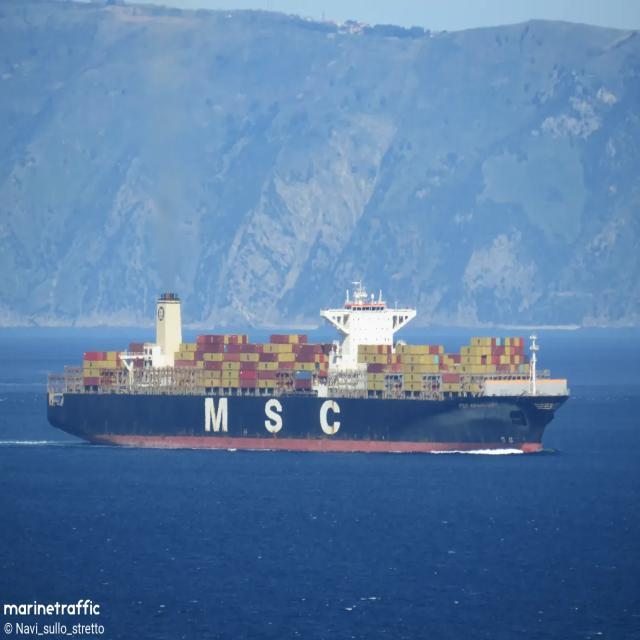Cargo: (48, 283, 569, 452)
